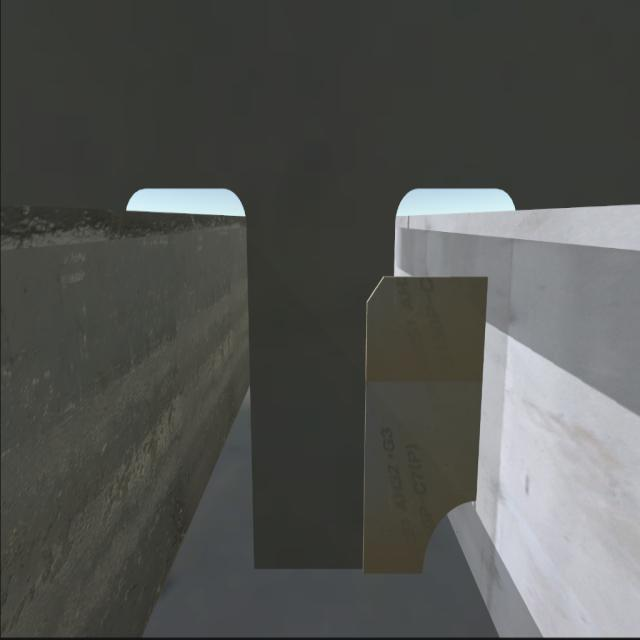fillet_hole: (422, 500, 472, 574)
fillet_yong_jeop_jang: (252, 554, 436, 588)
longi_yong_jeop_jang: (472, 264, 490, 504)
plate_CP03: (364, 275, 478, 581)
